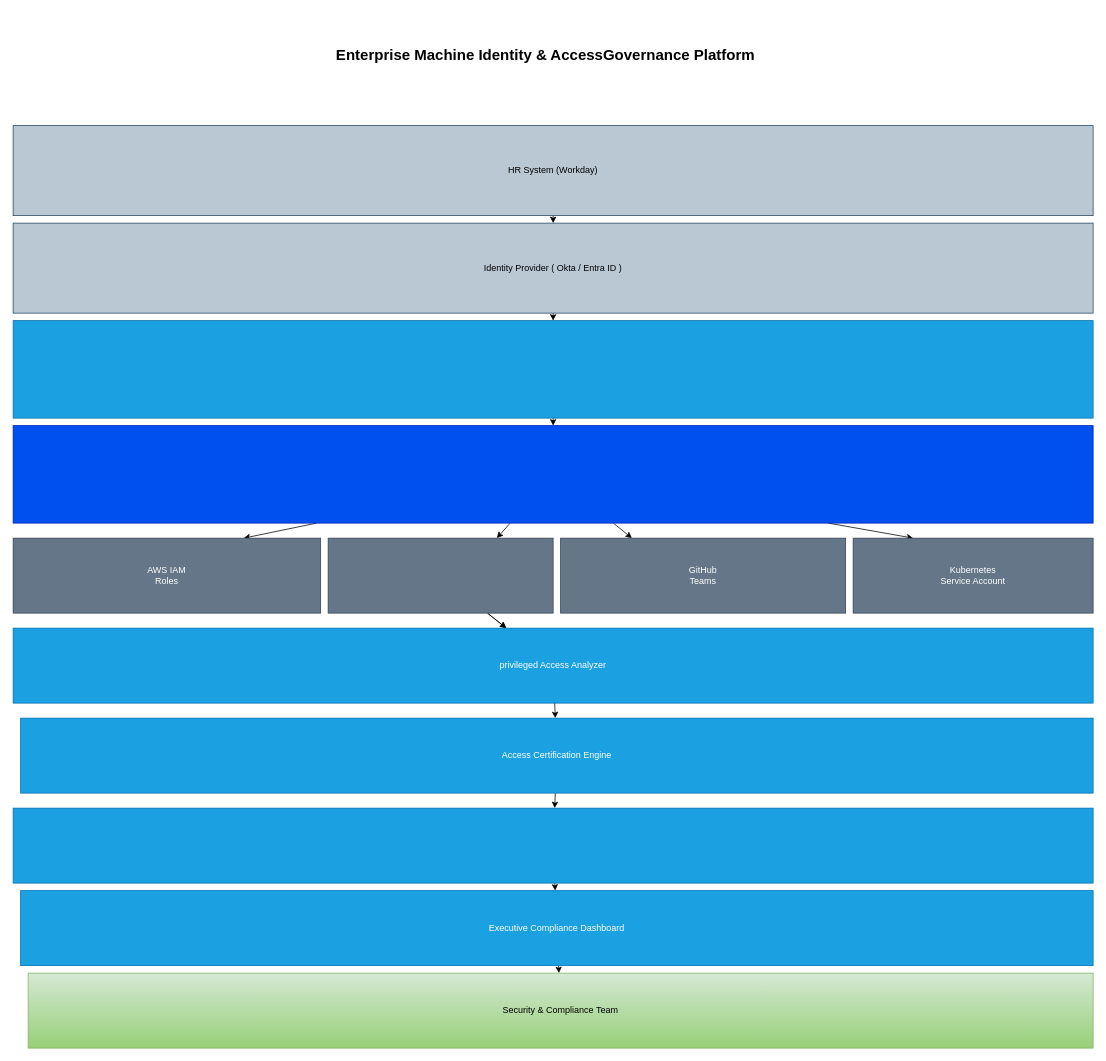
The diagram is 1106 pixels wide and 1061 high, and some of its shapes have lost their labels. Each missing label, with the box of its shape:
Azure RBAC Roles: (327, 537, 553, 613)
Compliance Reporting Engine: (12, 807, 1093, 883)
SCIM Provisioning: (12, 320, 1093, 418)
Terraform Identity Automation: (12, 425, 1093, 523)
